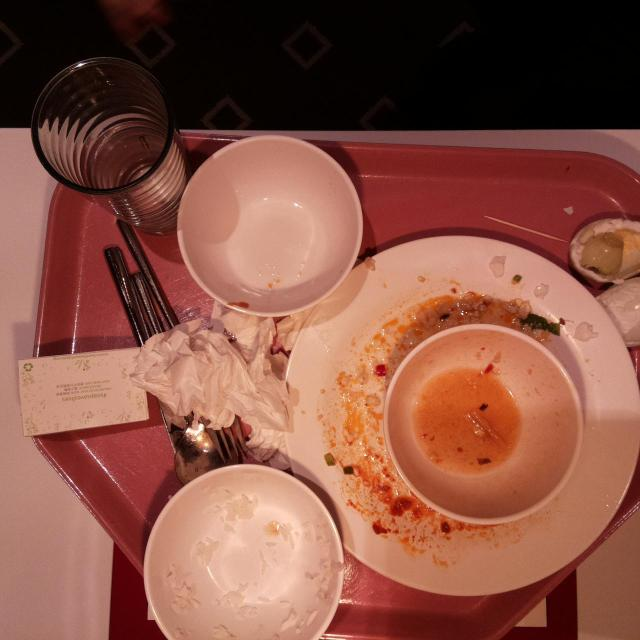Vegetable: (522, 313, 562, 335)
